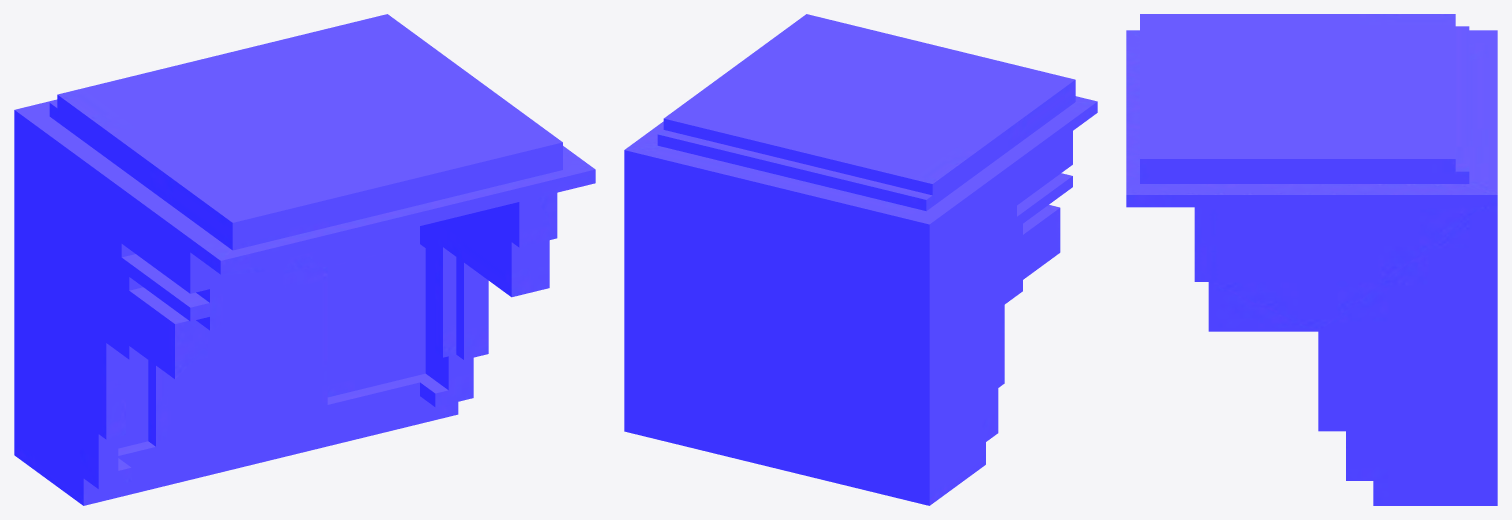
The model's file is cropped_blue.glb.
3 views of the same model, side by side, from view 1: azimuth 30°, elevation 25°; view 2: azimuth 150°, elevation 25°; view 3: azimuth 270°, elevation 25° (orthographic). The views are drawn at different scales.
Visible parts, largest first — view 1: short; view 2: short; view 3: short.
Boxes of the visible parts, box(x1,y1,x2,y2) form: short: box(14, 14, 595, 505); short: box(624, 14, 1097, 505); short: box(1126, 14, 1497, 505).
Size of the model in its own units: 2.84 by 2.7 by 2.71.
Materials: 1 (1 with a texture image).
